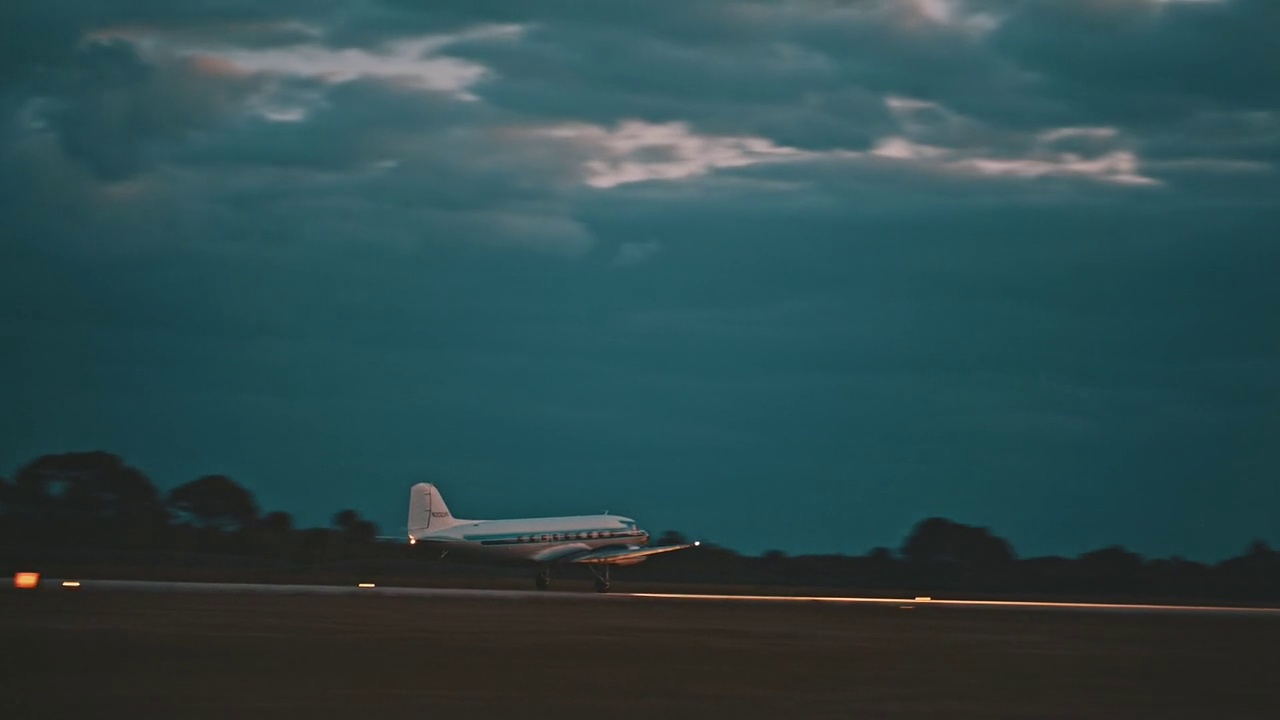plane: (376, 482, 699, 593)
